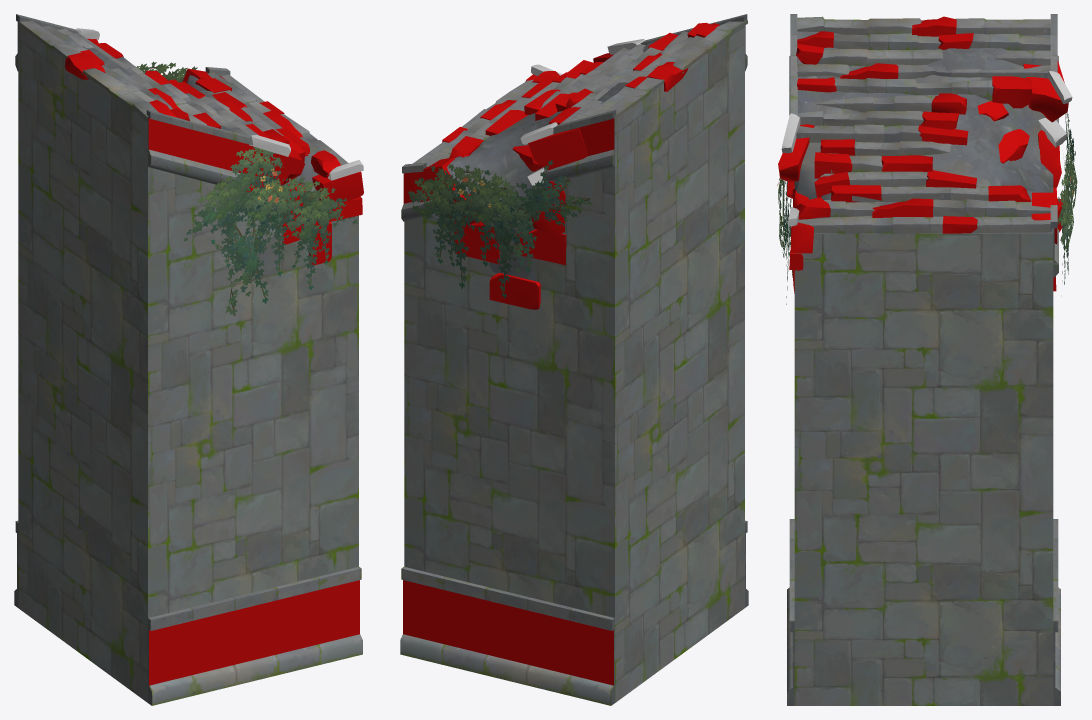
File: Area_MdBuild_SdWall01_10_Group.fbx
3 views of the same model, side by side, from view 1: azimuth 30°, elevation 25°; view 2: azimuth 150°, elevation 25°; view 3: azimuth 270°, elevation 25° (orthographic).
Visible parts, largest first — view 1: Area_MdBuild_SdWall01_10_Lod0, Stages_LYLvy06_Vo (1), Stages_LYLvy09_Vo (1); view 2: Area_MdBuild_SdWall01_10_Lod0, Stages_LYLvy08_Vo (1), Stages_LYLvy09_Vo (2); view 3: Area_MdBuild_SdWall01_10_Lod0, Stages_LYLvy08_Vo (1), Stages_LYLvy06_Vo (1).
Part boxes in pixels (x1,y1,x2,y2): Area_MdBuild_SdWall01_10_Lod0: (14,14,363,705); Stages_LYLvy06_Vo (1): (184,147,357,290); Stages_LYLvy09_Vo (1): (211,206,272,315); Area_MdBuild_SdWall01_10_Lod0: (400,14,748,705); Stages_LYLvy08_Vo (1): (408,164,542,298); Stages_LYLvy09_Vo (2): (487,159,592,229); Area_MdBuild_SdWall01_10_Lod0: (778,14,1072,705); Stages_LYLvy08_Vo (1): (1057,152,1077,284); Stages_LYLvy06_Vo (1): (777,178,793,304).
Bounding box in the file's own units: 8.05 × 20.14 × 9.3.
